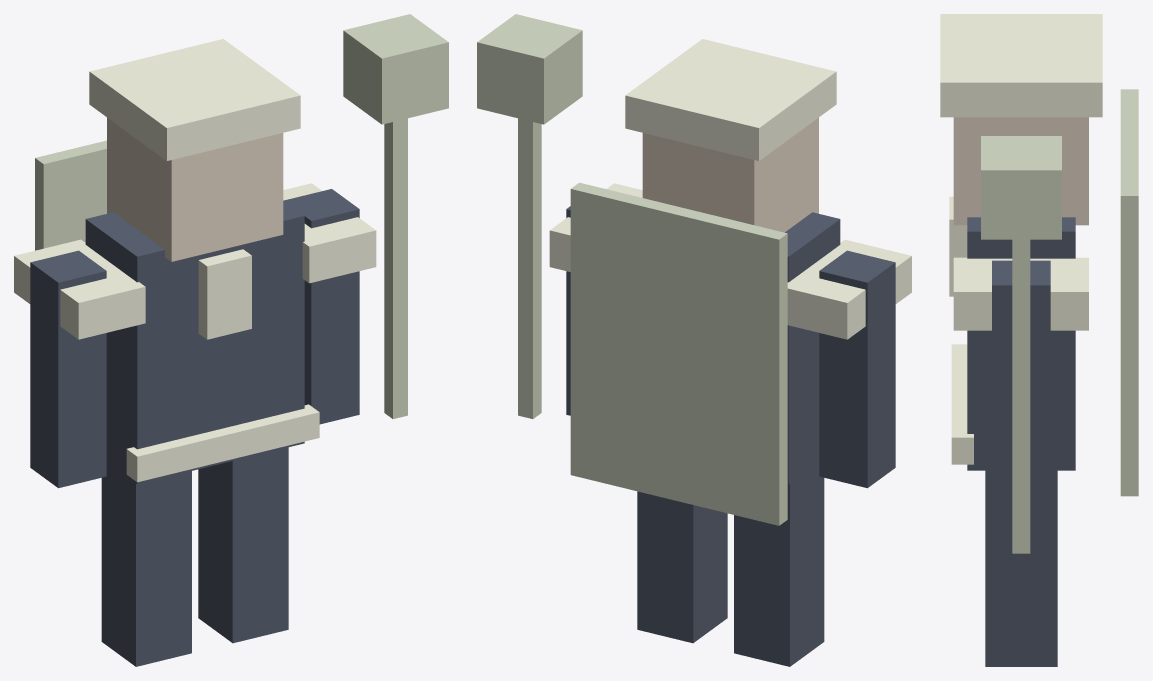
File: 15_tovin_cinderholt_custodian_near_emergency.glb
3 renders of one model, left to right at view 1: azimuth 30°, elevation 25°; view 2: azimuth 150°, elevation 25°; view 3: azimuth 270°, elevation 25°, orthographic. The views are drawn at different scales.
Parts seen in each view (by area): view 1: Tovin Cinderholt, Custodian near Emergency; view 2: Tovin Cinderholt, Custodian near Emergency; view 3: Tovin Cinderholt, Custodian near Emergency.
Part boxes in pixels (x1,y1,x2,y2): Tovin Cinderholt, Custodian near Emergency: (14,14,448,666); Tovin Cinderholt, Custodian near Emergency: (477,14,911,666); Tovin Cinderholt, Custodian near Emergency: (940,14,1138,666).
Size of the model in its own units: 1.01 by 1.39 by 0.4305.
